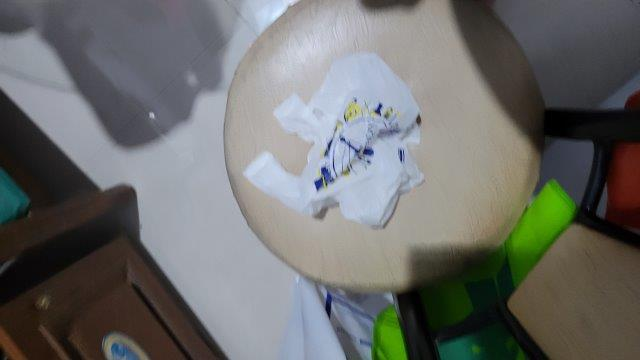plastik: (244, 53, 421, 225)
